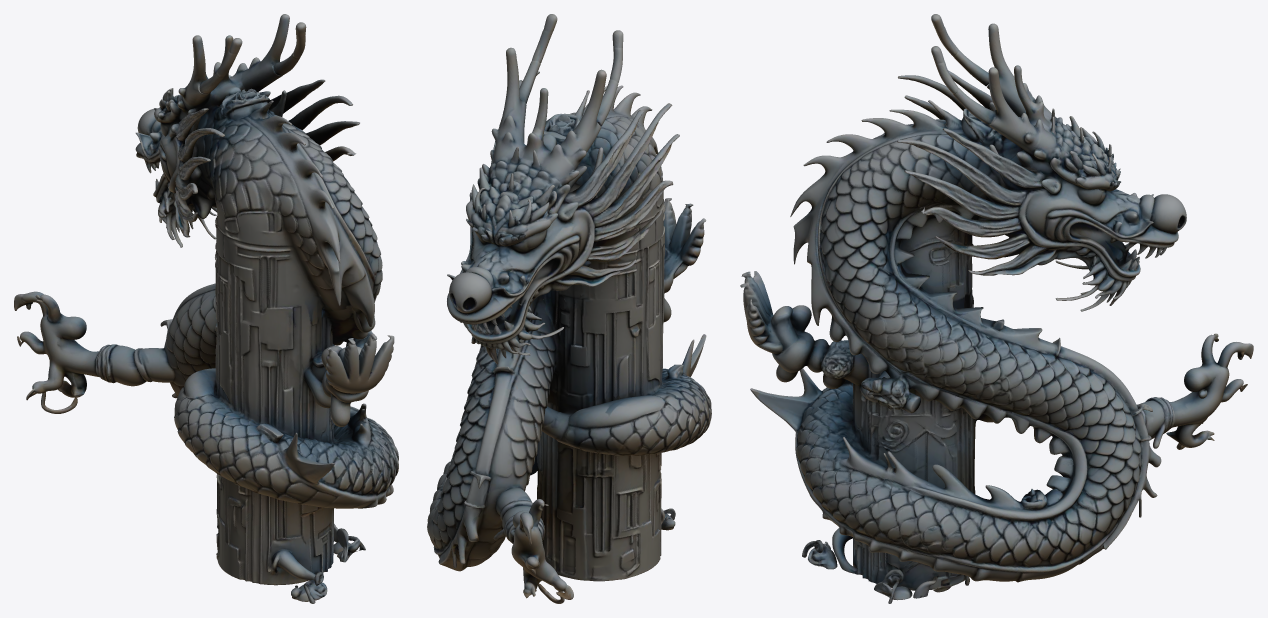
3 views of the same model, side by side, from view 1: azimuth 30°, elevation 25°; view 2: azimuth 150°, elevation 25°; view 3: azimuth 270°, elevation 25° (orthographic). The views are drawn at different scales.
Visible parts, largest first — view 1: tripo_node_a23d49b1-4122-4a02-a01f-13b004b46194; view 2: tripo_node_a23d49b1-4122-4a02-a01f-13b004b46194; view 3: tripo_node_a23d49b1-4122-4a02-a01f-13b004b46194.
Part boxes in pixels (bbox=[...]): tripo_node_a23d49b1-4122-4a02-a01f-13b004b46194: bbox=[14, 14, 398, 603]; tripo_node_a23d49b1-4122-4a02-a01f-13b004b46194: bbox=[427, 14, 711, 603]; tripo_node_a23d49b1-4122-4a02-a01f-13b004b46194: bbox=[740, 14, 1253, 603].
Size of the model in its own units: 0.4657 by 0.9987 by 0.8665.
1 material, 1 textured.
